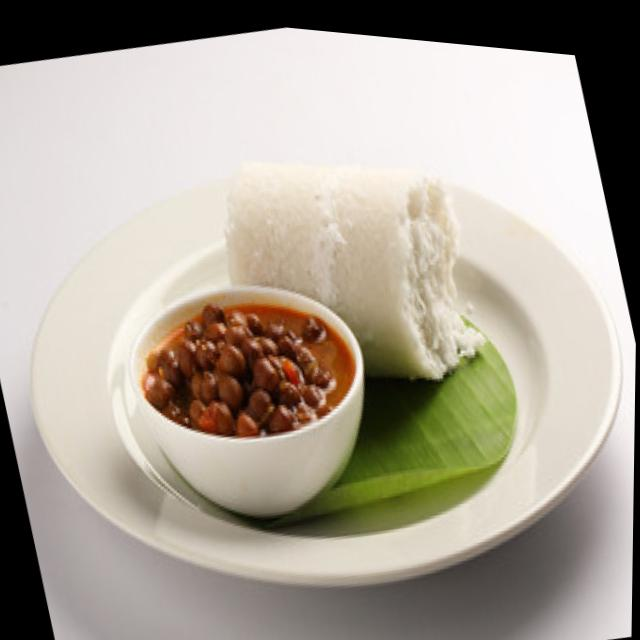CURRY: (147, 300, 359, 437)
PUTTU: (224, 165, 487, 382)
